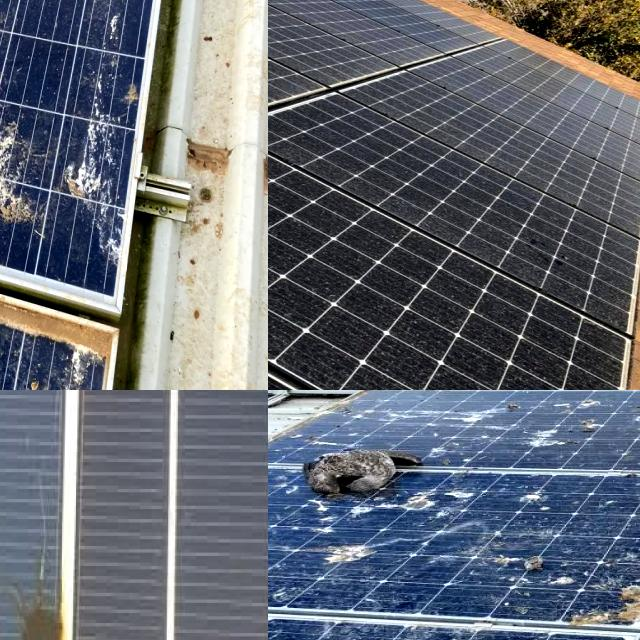bird: (62, 36, 128, 264), (0, 89, 77, 221), (0, 0, 90, 51), (32, 319, 96, 390), (0, 291, 61, 363), (485, 542, 570, 586), (507, 417, 585, 455), (0, 0, 43, 66), (0, 0, 43, 63), (395, 492, 475, 520), (314, 536, 376, 572), (563, 390, 640, 409), (268, 507, 296, 532), (268, 627, 303, 640), (268, 390, 294, 404)
dust: (312, 152, 480, 276), (536, 164, 640, 310), (287, 307, 433, 390), (268, 183, 338, 323), (268, 31, 355, 123), (268, 0, 343, 83)
shadow: (12, 558, 86, 640)
